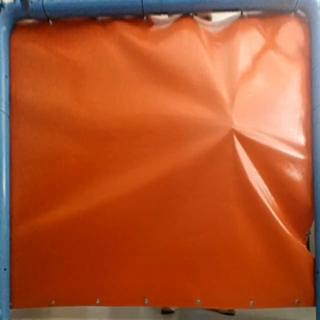Hit-hRxx: (227, 123, 241, 136)
